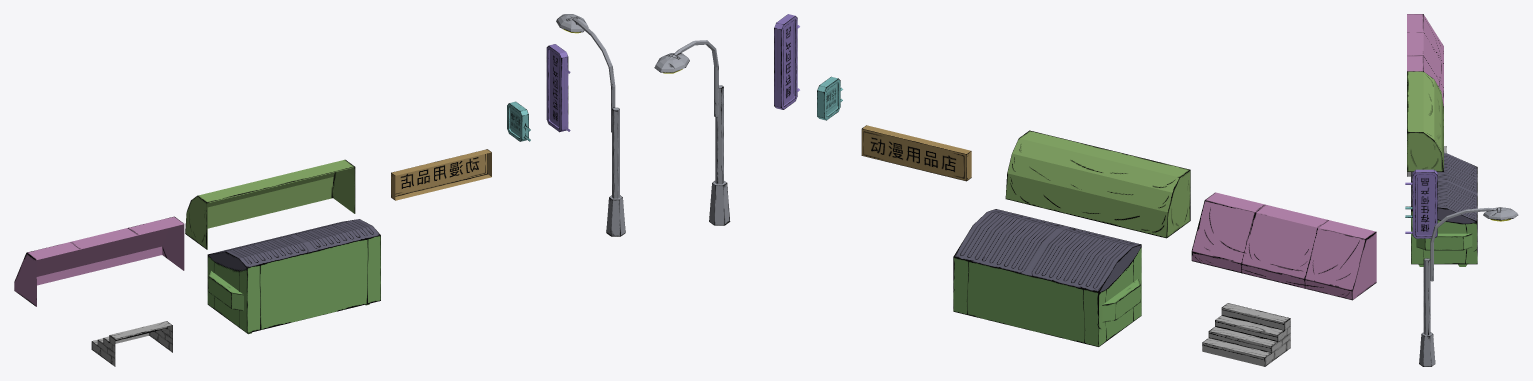
The model's file is Lvl1.TownDetails-1.fbx.
3 views of the same model, side by side, from view 1: azimuth 30°, elevation 25°; view 2: azimuth 150°, elevation 25°; view 3: azimuth 270°, elevation 25° (orthographic). The views are drawn at different scales.
Parts seen in each view (by area): view 1: Trash, Canopy.002, Canopy.001, Signboard.001, Flashlight, Signboard.003, Stair, Signboard.002; view 2: Trash, Canopy.002, Canopy.001, Stair, Signboard.001, Flashlight, Signboard.003, Signboard.002; view 3: Trash, Canopy.002, Canopy.001, Flashlight, Signboard.003.
Part boxes in pixels (<box>): Trash: <box>207,219,380,334</box>; Canopy.002: <box>185,159,355,249</box>; Canopy.001: <box>14,216,184,306</box>; Signboard.001: <box>391,149,491,200</box>; Flashlight: <box>556,14,625,236</box>; Signboard.003: <box>546,44,570,132</box>; Stair: <box>91,321,172,366</box>; Signboard.002: <box>507,101,530,141</box>; Trash: <box>953,209,1141,346</box>; Canopy.002: <box>1005,130,1190,238</box>; Canopy.001: <box>1191,192,1376,300</box>; Stair: <box>1202,303,1290,366</box>; Signboard.001: <box>861,125,971,181</box>; Flashlight: <box>654,40,730,225</box>; Signboard.003: <box>774,14,799,109</box>; Signboard.002: <box>817,76,842,120</box>; Trash: <box>1411,153,1477,266</box>; Canopy.002: <box>1407,71,1443,171</box>; Canopy.001: <box>1407,14,1443,109</box>; Flashlight: <box>1419,207,1518,366</box>; Signboard.003: <box>1405,169,1437,238</box>.
Bounding box in the file's own units: 1768 × 578 × 340.
